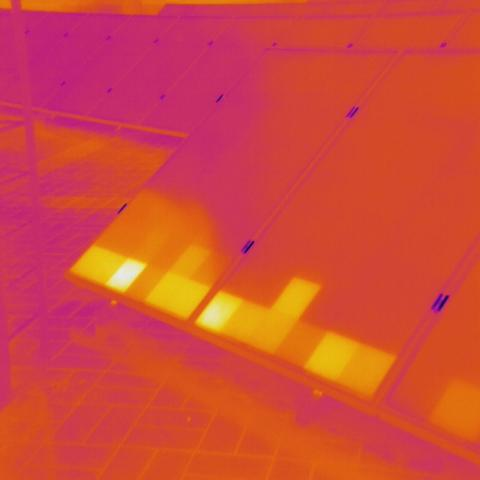fault: (341, 340, 398, 400), (301, 320, 357, 380), (272, 275, 324, 322), (106, 250, 152, 298), (167, 234, 210, 282), (198, 290, 242, 334), (70, 244, 120, 281), (150, 272, 182, 311)
